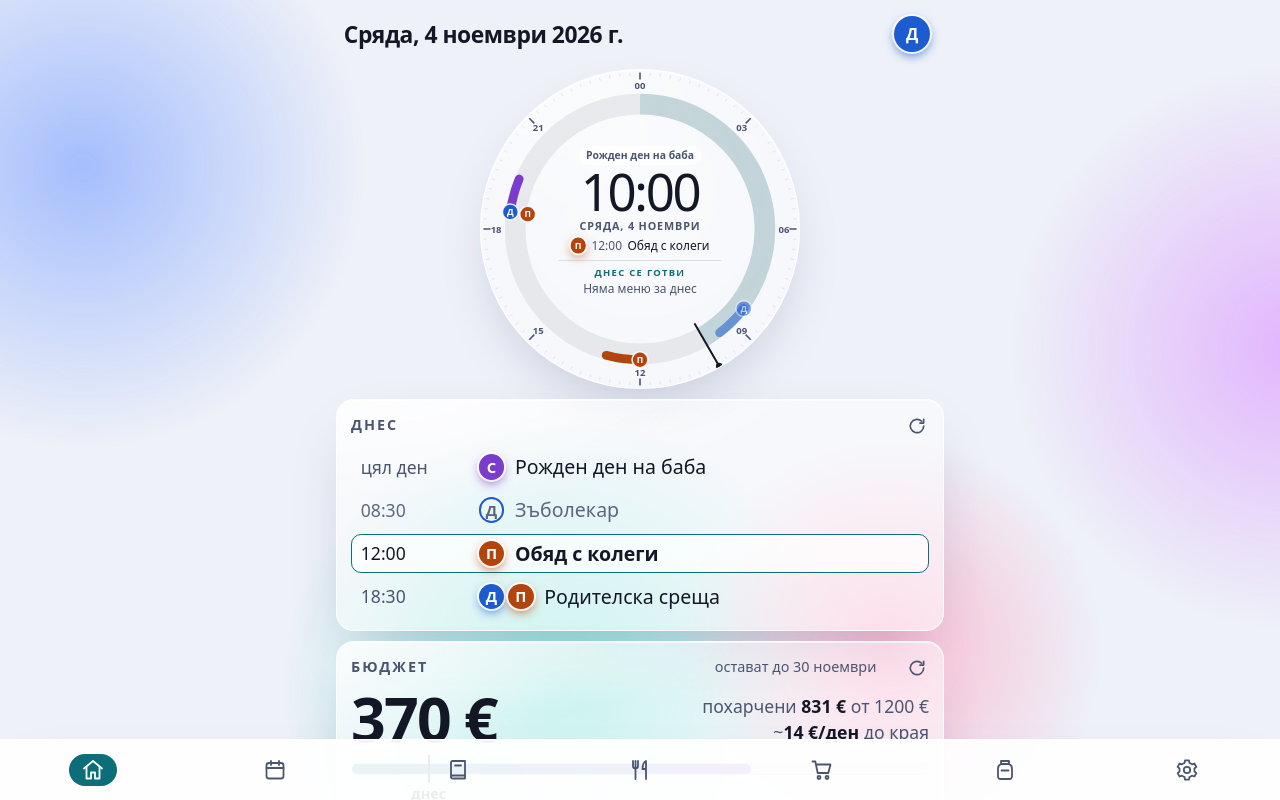
it: DashboardScreen › иконата за обновяване › на бюджета праща POST /api/sync/budget и за кратко показва „Обновено 10:00“
Click the button named "Обнови бюджета" at (917, 668), box [893, 644, 941, 692]
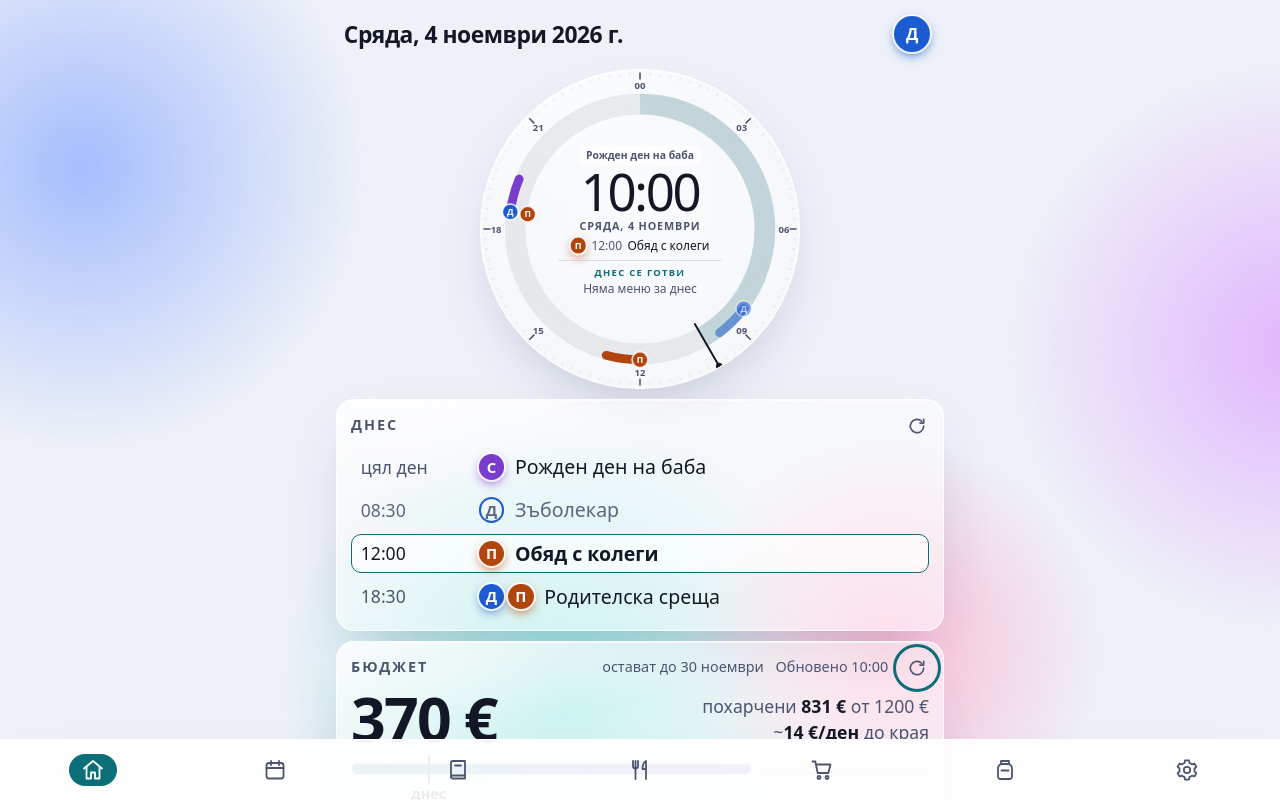
Check: the text "Обновено 10:00" is shown, box [776, 658, 888, 677]
